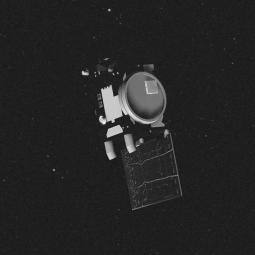proba_3_csc: (78, 54, 190, 217)
